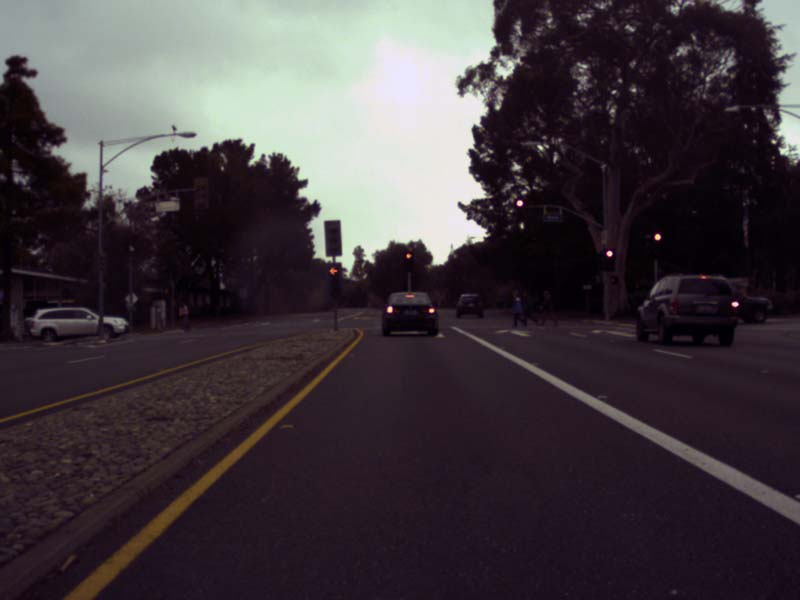Red: (326, 263, 342, 298), (653, 231, 664, 259), (603, 248, 614, 271), (515, 198, 524, 220), (404, 251, 413, 271)
